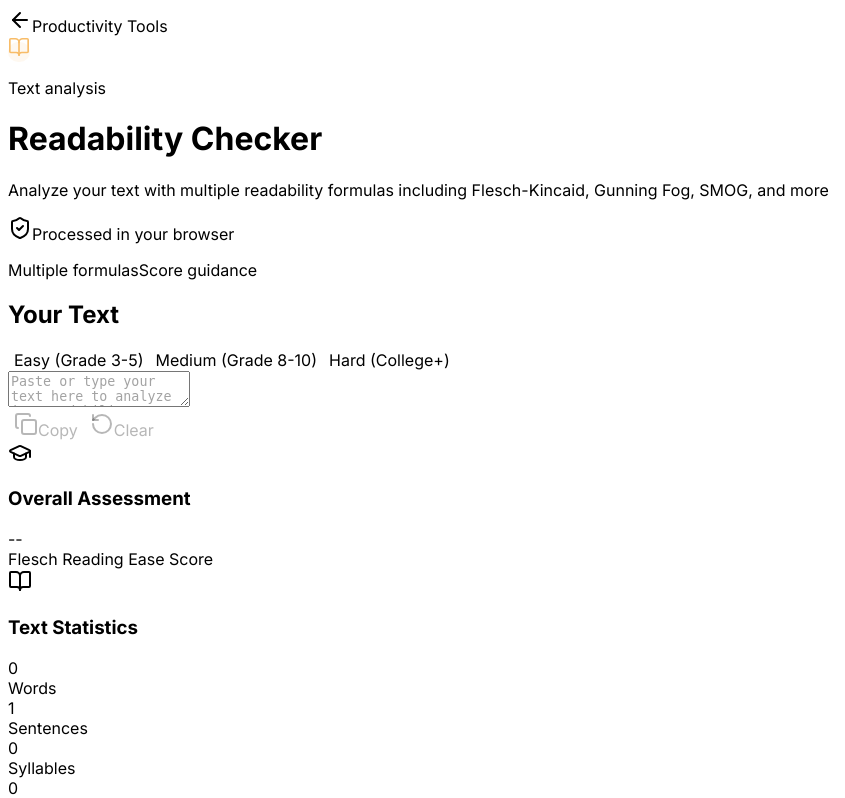
Test: ReadabilityCheckerPage › Sample Text Loading › loads hard sample text when Hard button is clicked
What coordinates should you click on to do the following:
click the button "Hard (College+)"
I would click on:
 (389, 360)
Its box is [323,349,456,371].
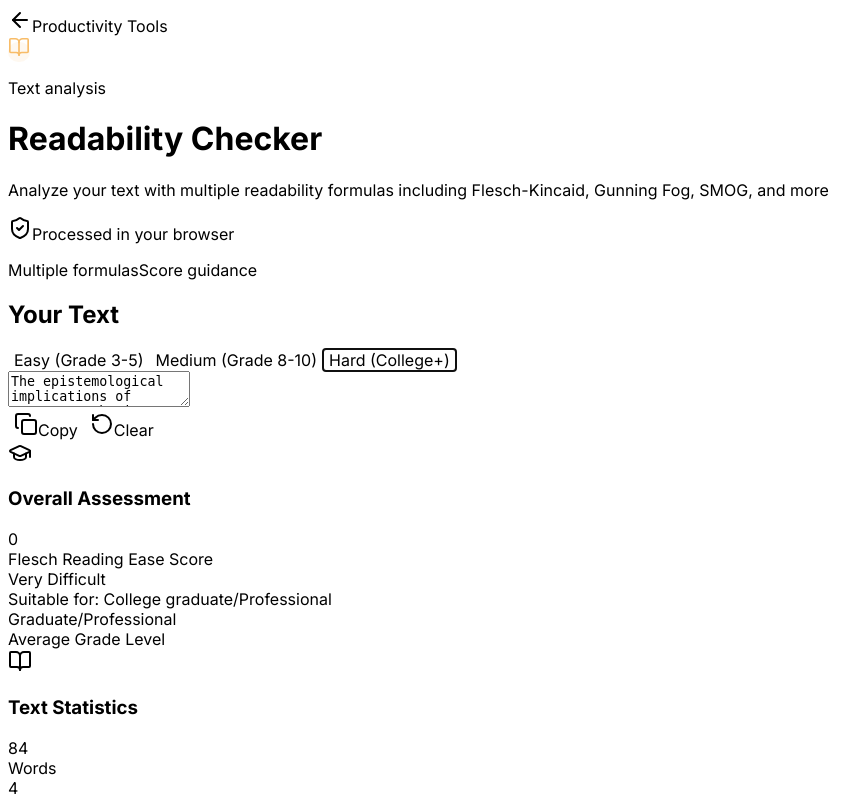
Check: the text box with placeholder "Paste or type your text here to analyze its readability..." holds "The epistemological implications of quantum mechanics fundamentally challenge our classical understanding of determinism and causality. Heisenberg's uncertainty", box [8,371,190,407]
